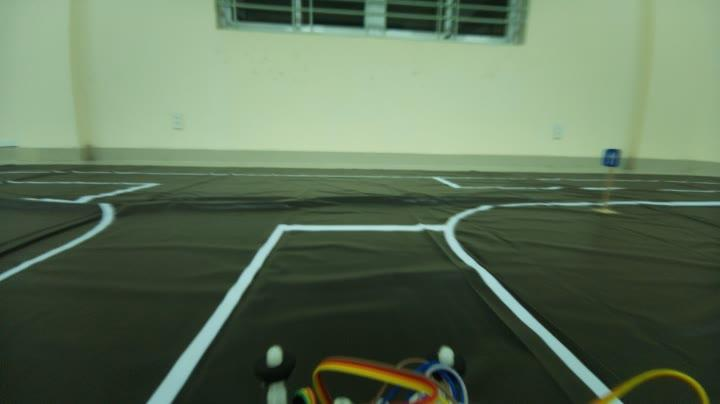onewayroad: (596, 143, 621, 168)
